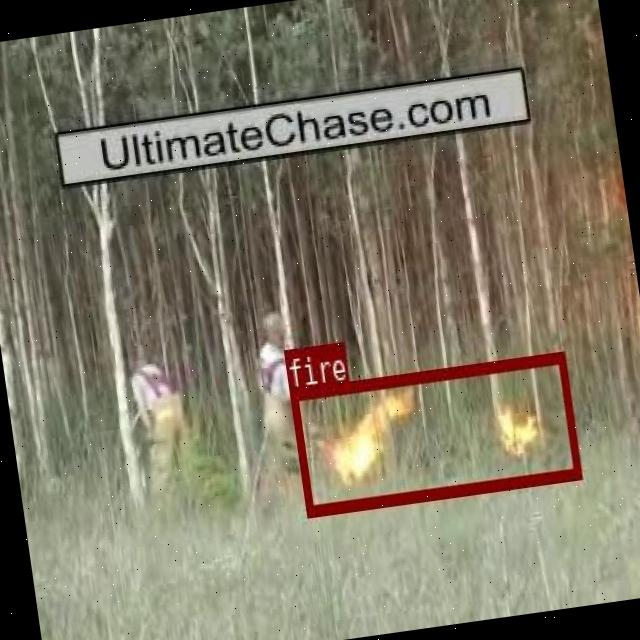fire: (288, 350, 580, 514)
